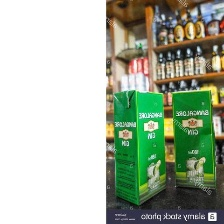carton: (112, 87, 167, 205), (170, 87, 218, 192)
